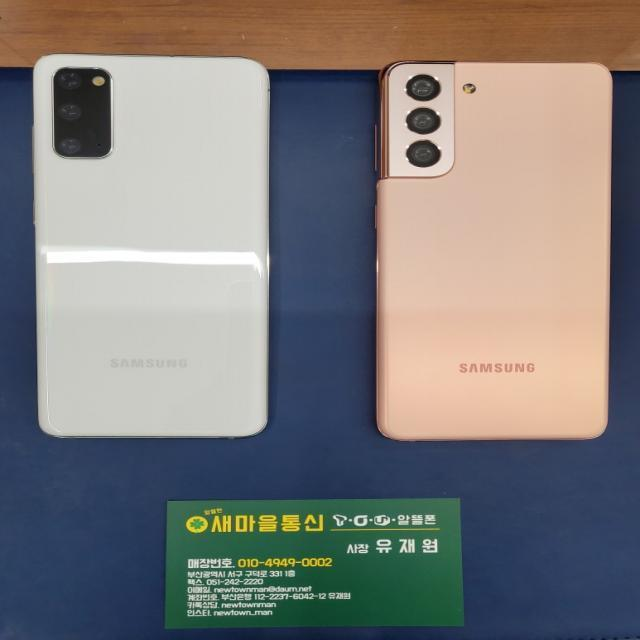phone: (34, 54, 270, 436), (381, 62, 607, 441)
